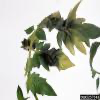Tomato leaf late blight: (57, 18, 99, 55), (33, 43, 76, 73), (22, 69, 59, 97)
